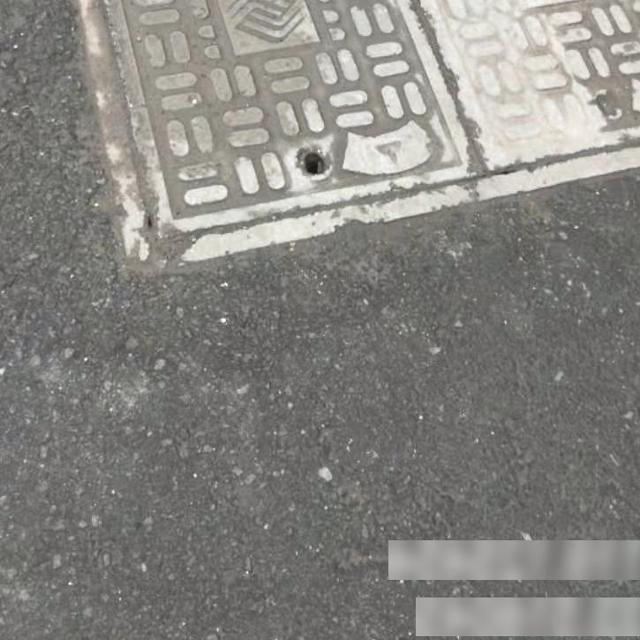good: (50, 0, 640, 267)
